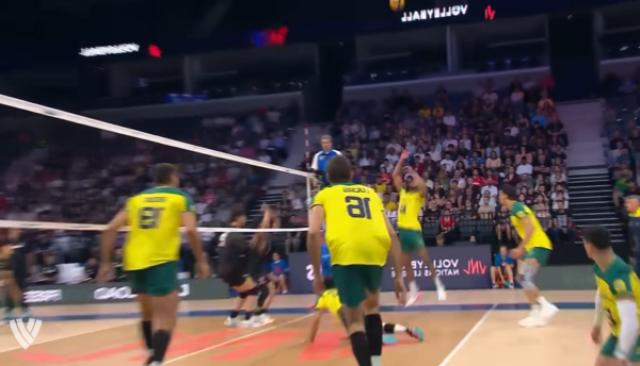bola: (387, 0, 411, 16)
